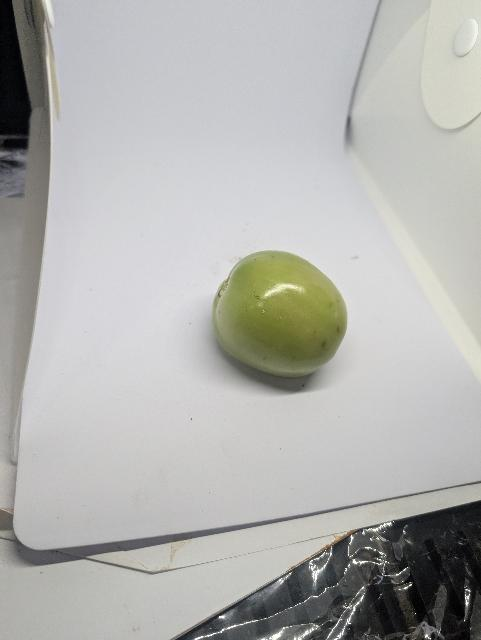green: (190, 241, 368, 395)
